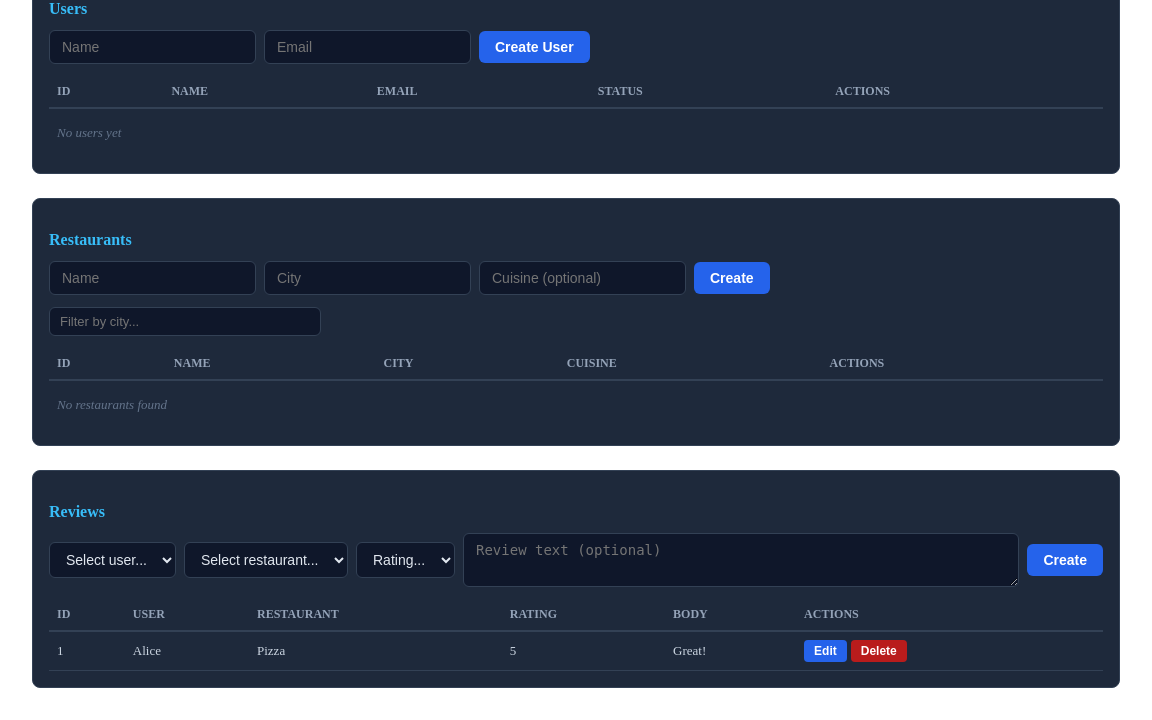
Test: ReviewsPanel — review table › deletes a review
(page scrolled)
Check: the text "Great!" is shown, box x1=665 y1=631 x2=796 y2=670
Click the button "Delete" at (879, 651), box x1=851 y1=640 x2=907 y2=662
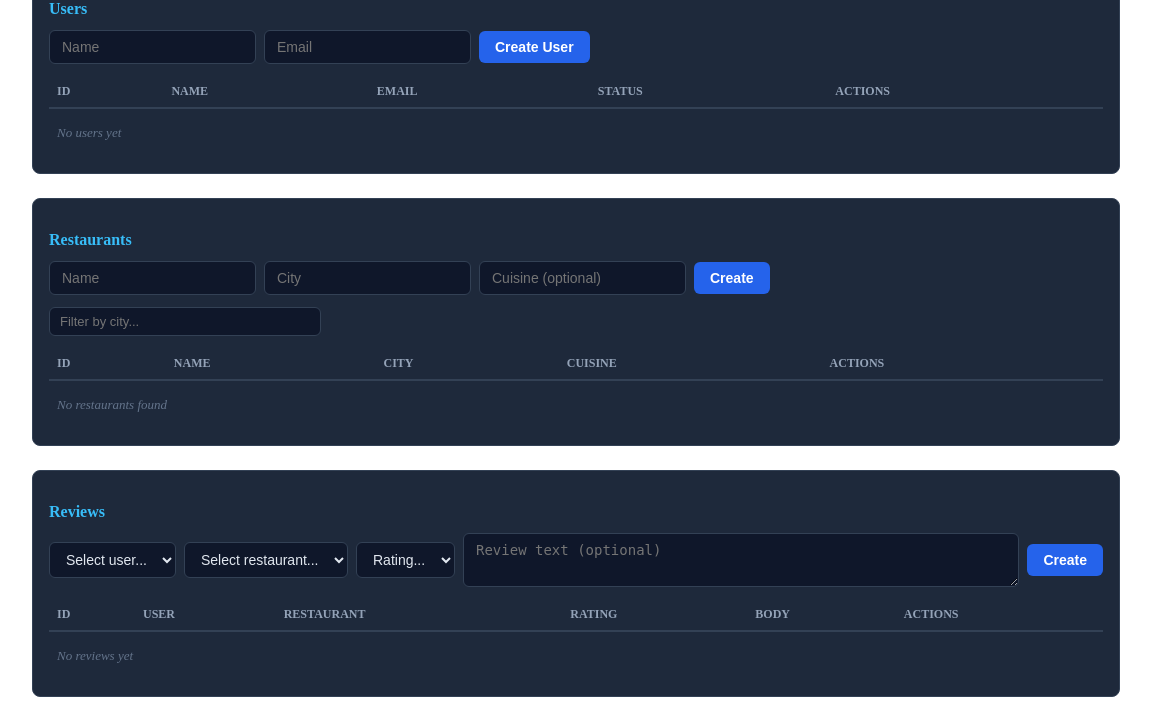
Check: the text "No reviews yet" is shown, box x1=49 y1=631 x2=1103 y2=680
